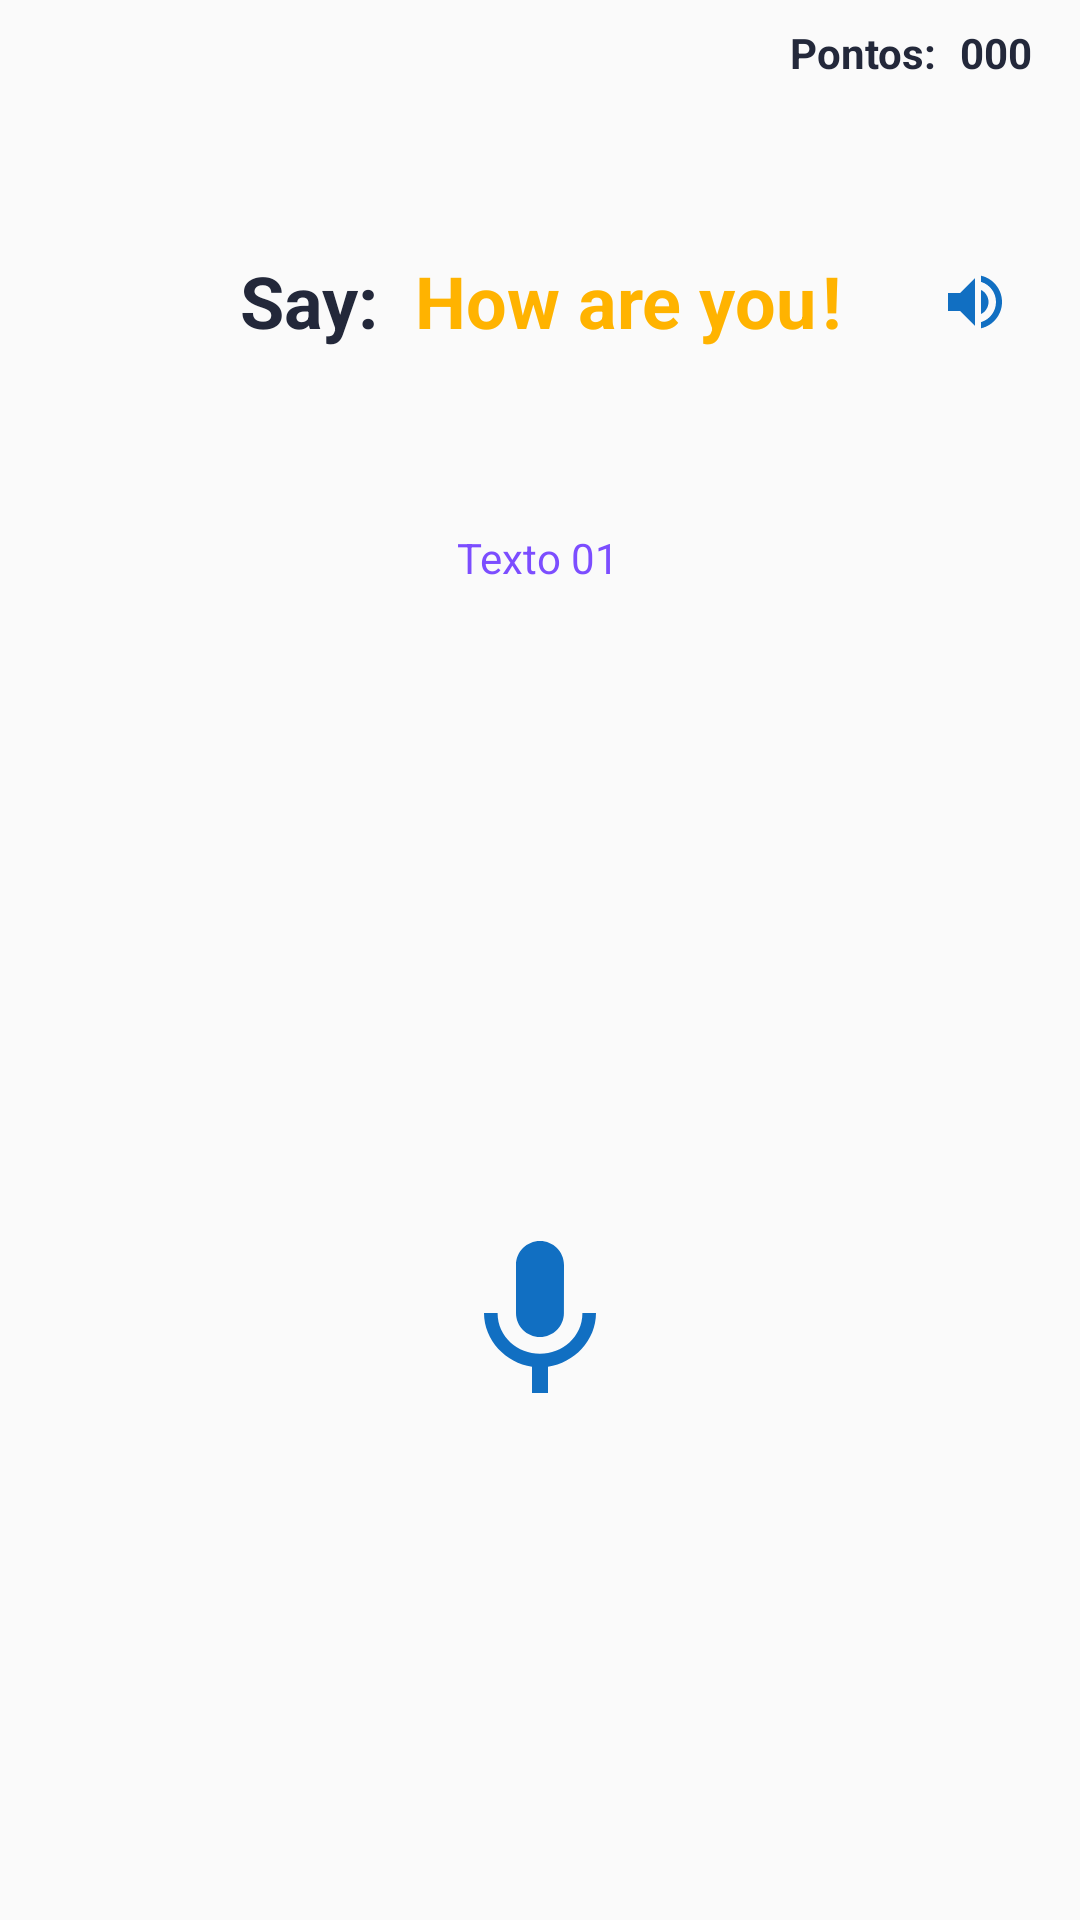

Screen size 1080×1920. Icon name, then its center in pixels as (x=x, y=y):
microfone: (x=540, y=1317)
volume up: (x=975, y=302)
